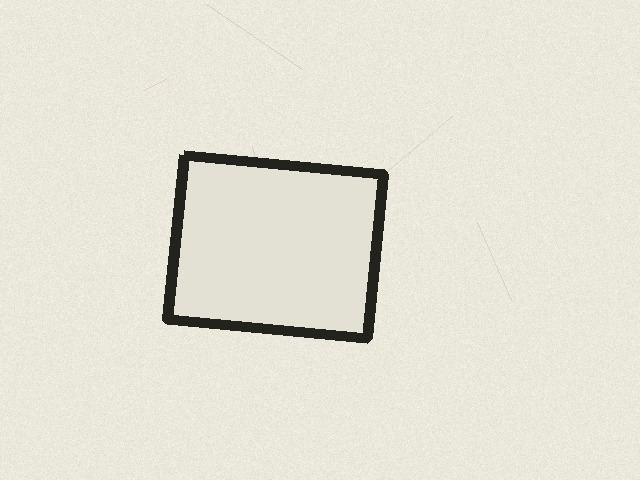parking_area: (167, 155, 383, 338)
